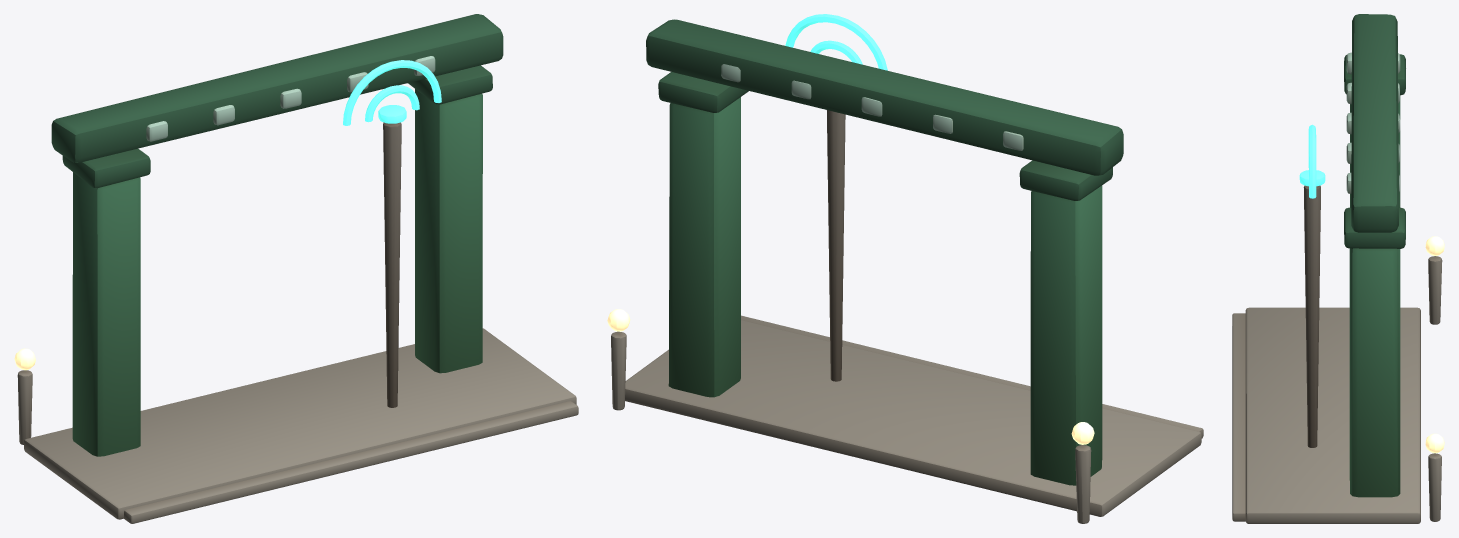
3 views of the same model, side by side, from view 1: azimuth 30°, elevation 25°; view 2: azimuth 150°, elevation 25°; view 3: azimuth 270°, elevation 25° (orthographic). The views are drawn at different scales.
Parts seen in each view (by area): view 1: gate_d762108d; view 2: gate_d762108d; view 3: gate_d762108d.
Boxes of the visible parts, x1,y1,x2,y2 form: gate_d762108d: (14, 14, 578, 523); gate_d762108d: (607, 14, 1203, 523); gate_d762108d: (1232, 14, 1444, 523).
Size of the model in its own units: 5.85 by 4.35 by 2.55.
